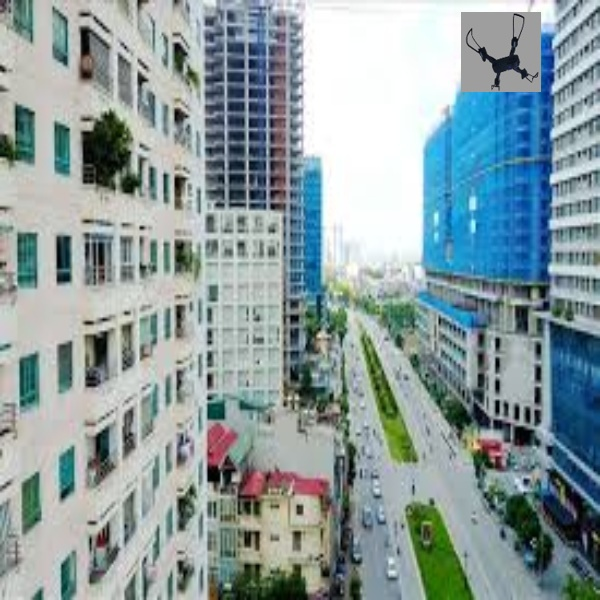drone: (462, 8, 545, 89)
